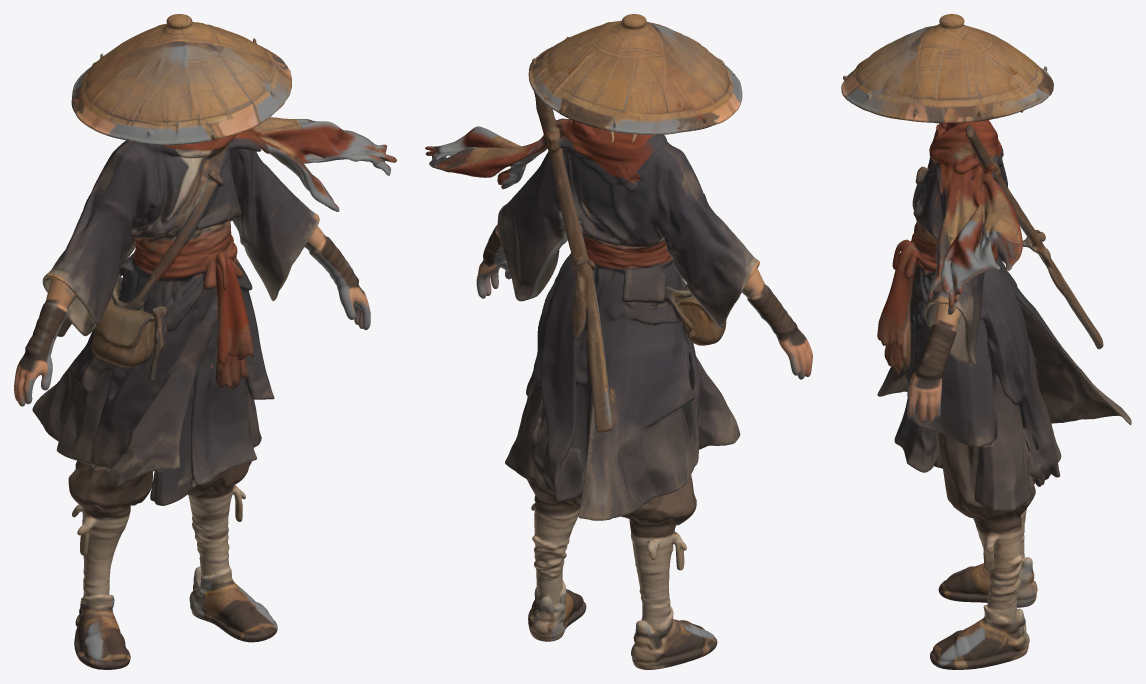
Rendered from traveler-tripo-h25-raw.glb.
3 views of the same model, side by side, from view 1: azimuth 30°, elevation 25°; view 2: azimuth 150°, elevation 25°; view 3: azimuth 270°, elevation 25° (orthographic). The views are drawn at different scales.
Parts seen in each view (by area): view 1: tripo_node_2773bc24-bcd6-47a5-9dce-0b5d24c2c450; view 2: tripo_node_2773bc24-bcd6-47a5-9dce-0b5d24c2c450; view 3: tripo_node_2773bc24-bcd6-47a5-9dce-0b5d24c2c450.
Boxes of the visible parts, bbox=[...] form: tripo_node_2773bc24-bcd6-47a5-9dce-0b5d24c2c450: bbox=[14, 14, 396, 669]; tripo_node_2773bc24-bcd6-47a5-9dce-0b5d24c2c450: bbox=[425, 14, 812, 669]; tripo_node_2773bc24-bcd6-47a5-9dce-0b5d24c2c450: bbox=[841, 14, 1131, 669].
Size of the model in its own units: 0.6417 by 1 by 0.4314.
1 material, 1 textured.
